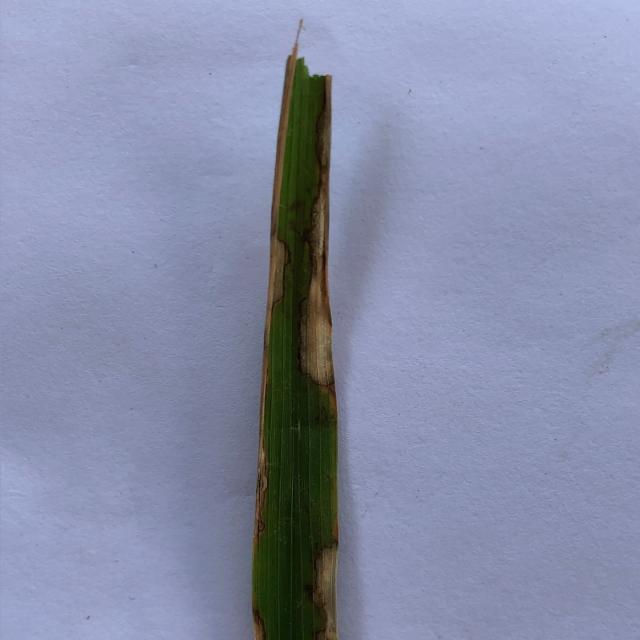Leaf Blight: (254, 43, 297, 540), (300, 80, 336, 410), (314, 482, 341, 640), (253, 608, 265, 640)
